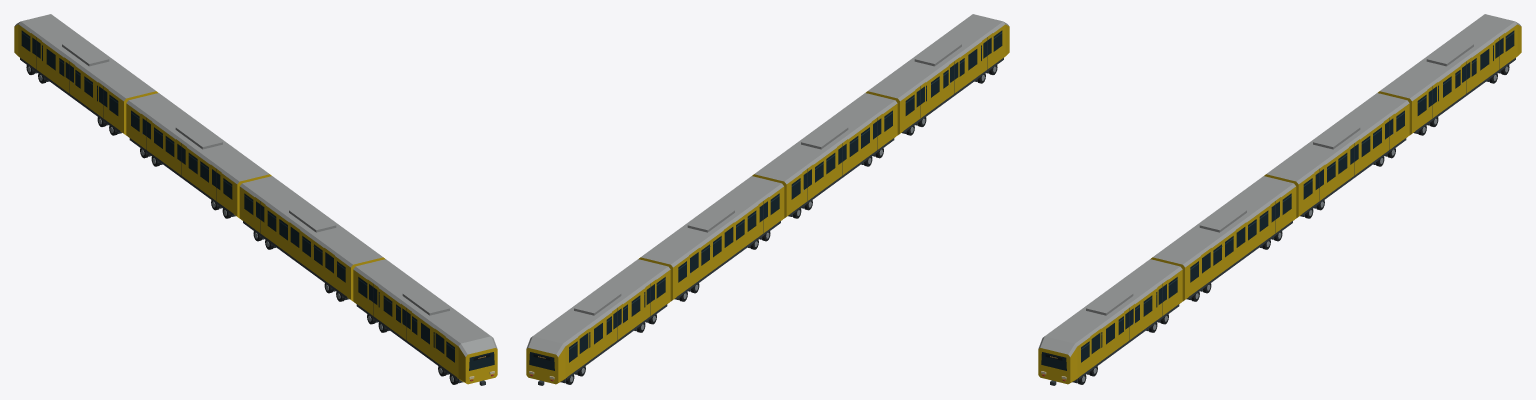
The model's file is ubahn-hk.glb.
3 views of the same model, side by side, from view 1: azimuth 30°, elevation 25°; view 2: azimuth 150°, elevation 25°; view 3: azimuth 330°, elevation 25° (orthographic).
Parts seen in each view (by area): view 1: ubahn-hk.segment-01.005, ubahn-hk.segment-02.005, ubahn-hk.segment-03.005, ubahn-hk.segment-04.005; view 2: ubahn-hk.segment-04.005, ubahn-hk.segment-03.005, ubahn-hk.segment-02.005, ubahn-hk.segment-01.005; view 3: ubahn-hk.segment-01.005, ubahn-hk.segment-02.005, ubahn-hk.segment-03.005, ubahn-hk.segment-04.005.
Boxes of the visible parts, box(x1,y1,x2,y2) form: ubahn-hk.segment-01.005: box(353, 259, 497, 385); ubahn-hk.segment-02.005: box(239, 176, 385, 301); ubahn-hk.segment-03.005: box(126, 93, 271, 218); ubahn-hk.segment-04.005: box(14, 14, 158, 135); ubahn-hk.segment-04.005: box(526, 259, 670, 385); ubahn-hk.segment-03.005: box(638, 176, 784, 301); ubahn-hk.segment-02.005: box(752, 93, 897, 218); ubahn-hk.segment-01.005: box(865, 14, 1009, 135); ubahn-hk.segment-01.005: box(1038, 259, 1182, 385); ubahn-hk.segment-02.005: box(1150, 176, 1296, 301); ubahn-hk.segment-03.005: box(1264, 93, 1409, 218); ubahn-hk.segment-04.005: box(1377, 14, 1521, 135).
Size of the model in its own units: 2.35 by 3.13 by 52.04.
